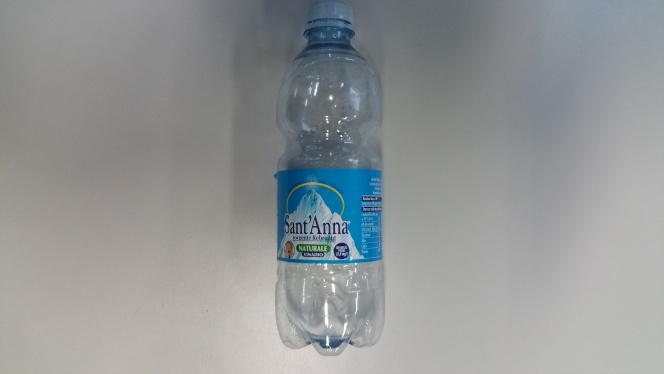bottle: (274, 4, 387, 355)
